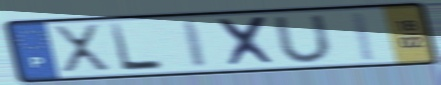I: (347, 10, 380, 64), (179, 18, 211, 70)
L: (107, 22, 167, 73)
U: (270, 12, 337, 64)
X: (214, 14, 281, 69), (50, 22, 115, 74)
